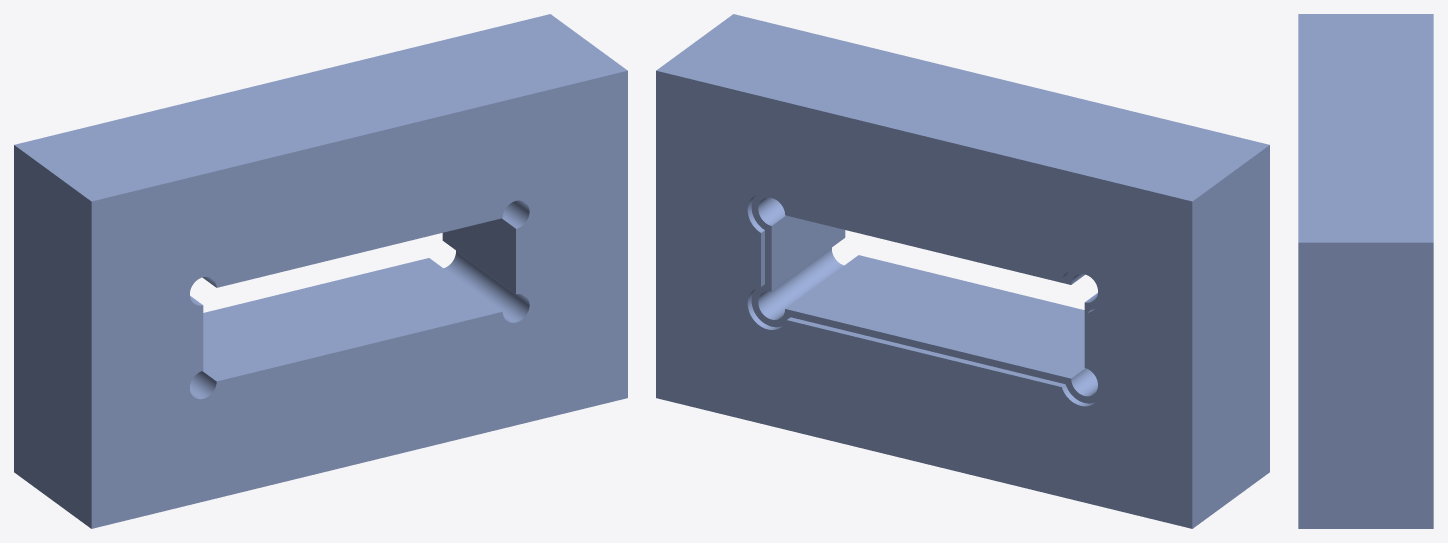
Rendered from slot_cutter_demo.glb.
3 renders of one model, left to right at view 1: azimuth 30°, elevation 25°; view 2: azimuth 150°, elevation 25°; view 3: azimuth 270°, elevation 25°, orthographic. The views are drawn at different scales.
Visible parts, largest first — view 1: dogbone_slot; view 2: dogbone_slot; view 3: dogbone_slot.
Part boxes in pixels (box(x1,y1,x2,y2)): dogbone_slot: box(14, 14, 627, 528); dogbone_slot: box(656, 14, 1269, 528); dogbone_slot: box(1298, 14, 1433, 528).
Size of the model in its own units: 24 by 14 by 6.
